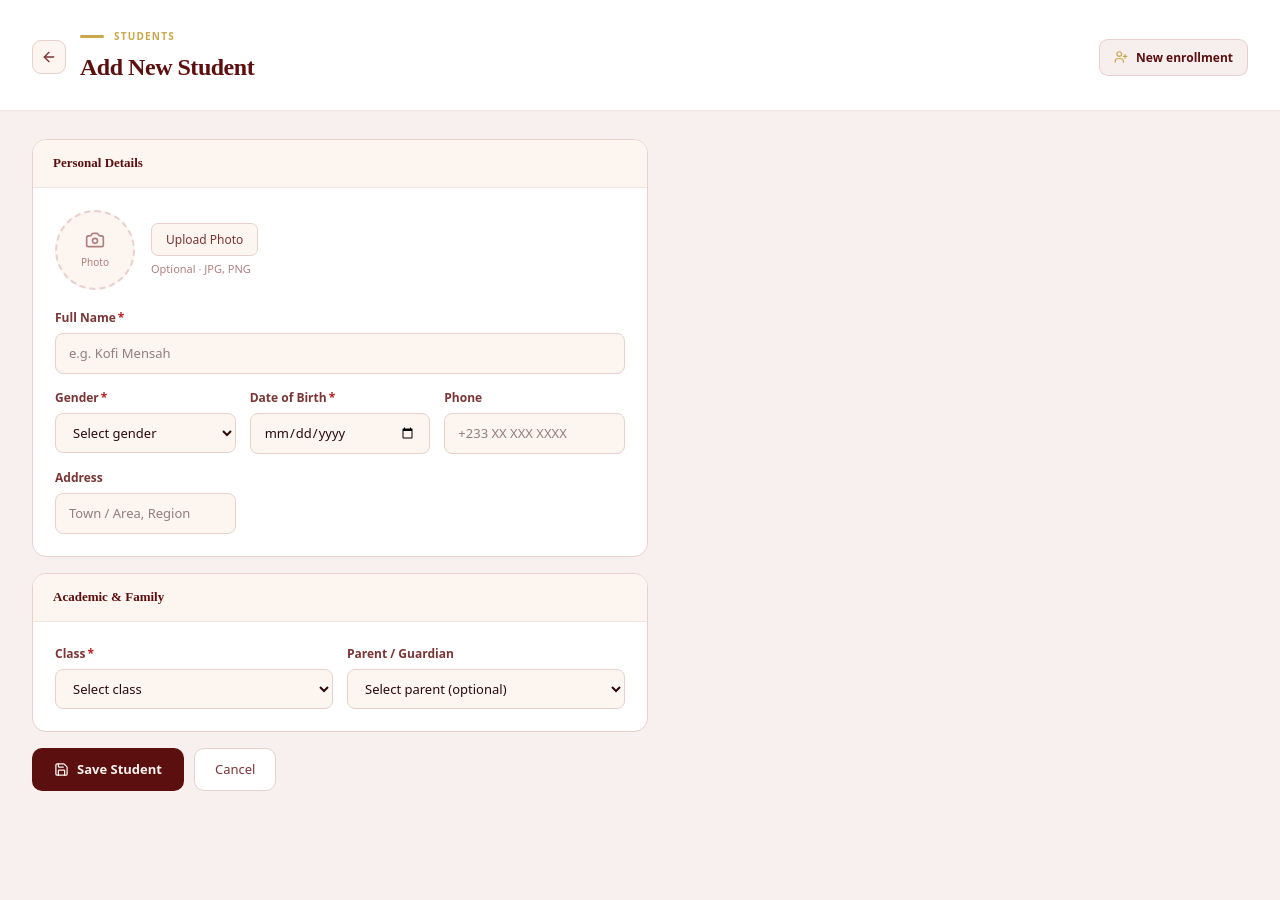
Scenario: Add New Student page › shows an error message when form submission fails
The width and height of the screenshot is (1280, 900).
Fill required fields
Type "Test Student" into the field with placeholder "e.g. Kofi Mensah" at (340, 354), box [55,333,625,374]
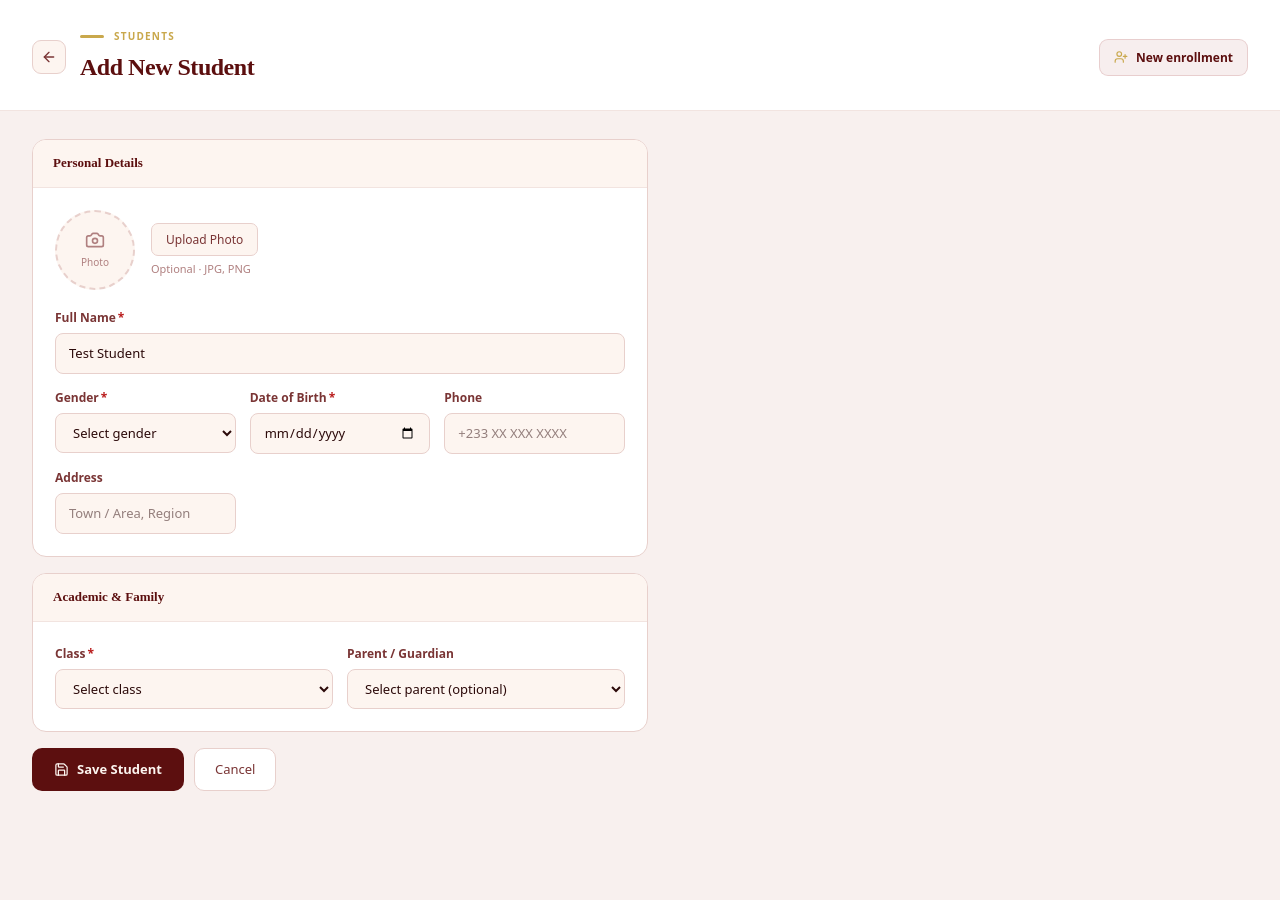
Select "Male" in the dropdown showing "Select gender" below "Gender" at (145, 433), box [55,413,236,453]
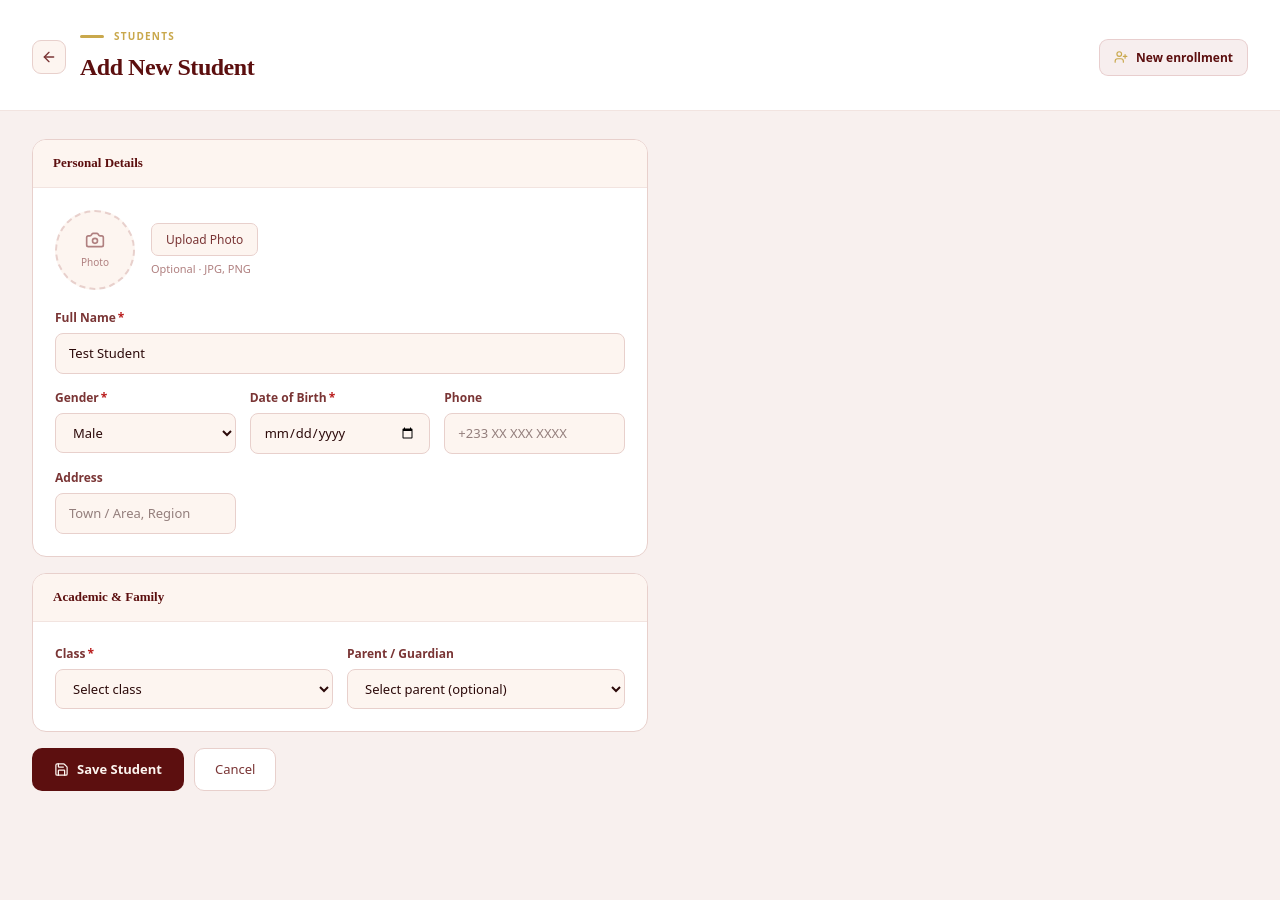
Type "2012-01-01" into the date field at (340, 434), box [250,413,430,454]
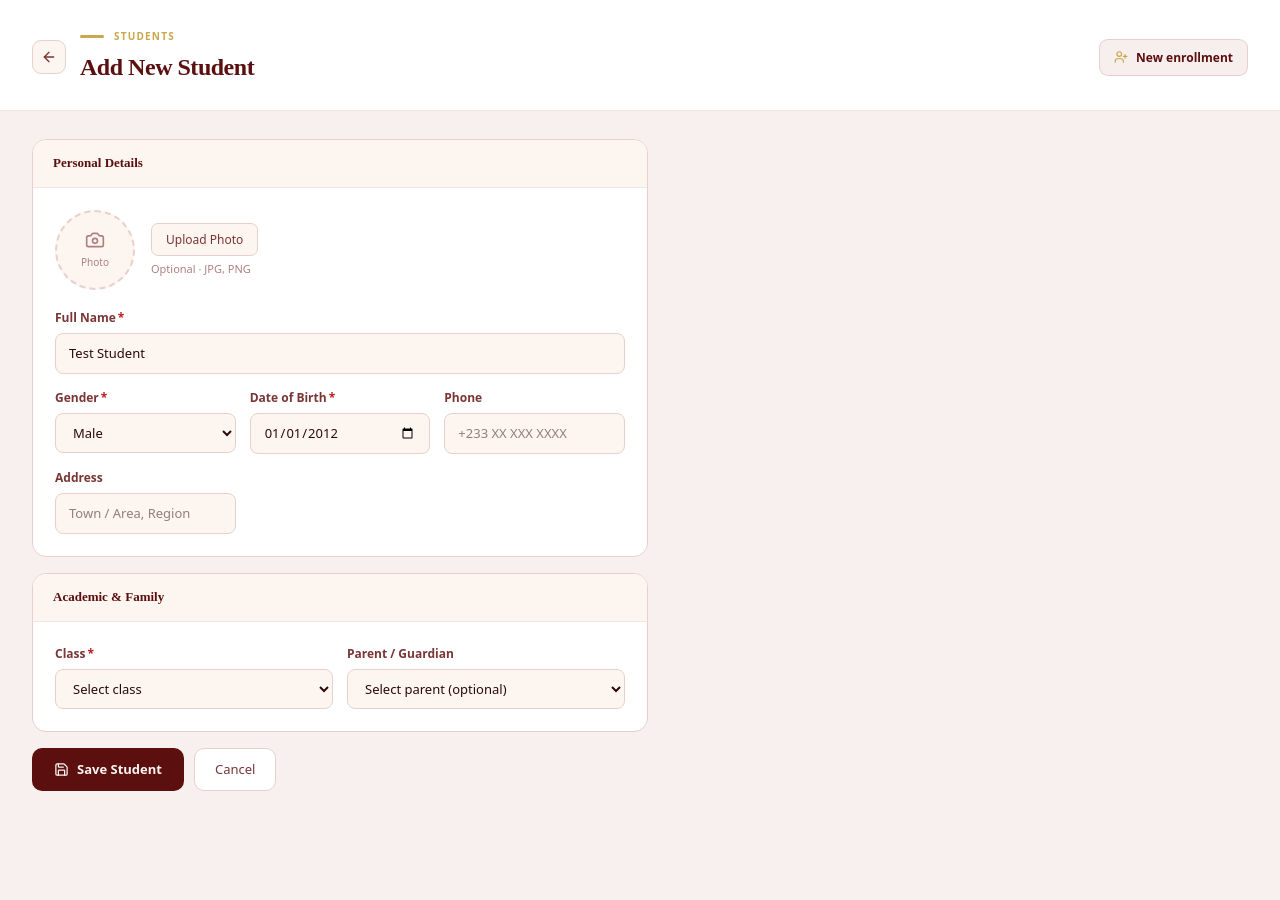
Select "JHS 1" in the dropdown showing "Select class" below "Class" at (194, 689), box [55,669,333,709]
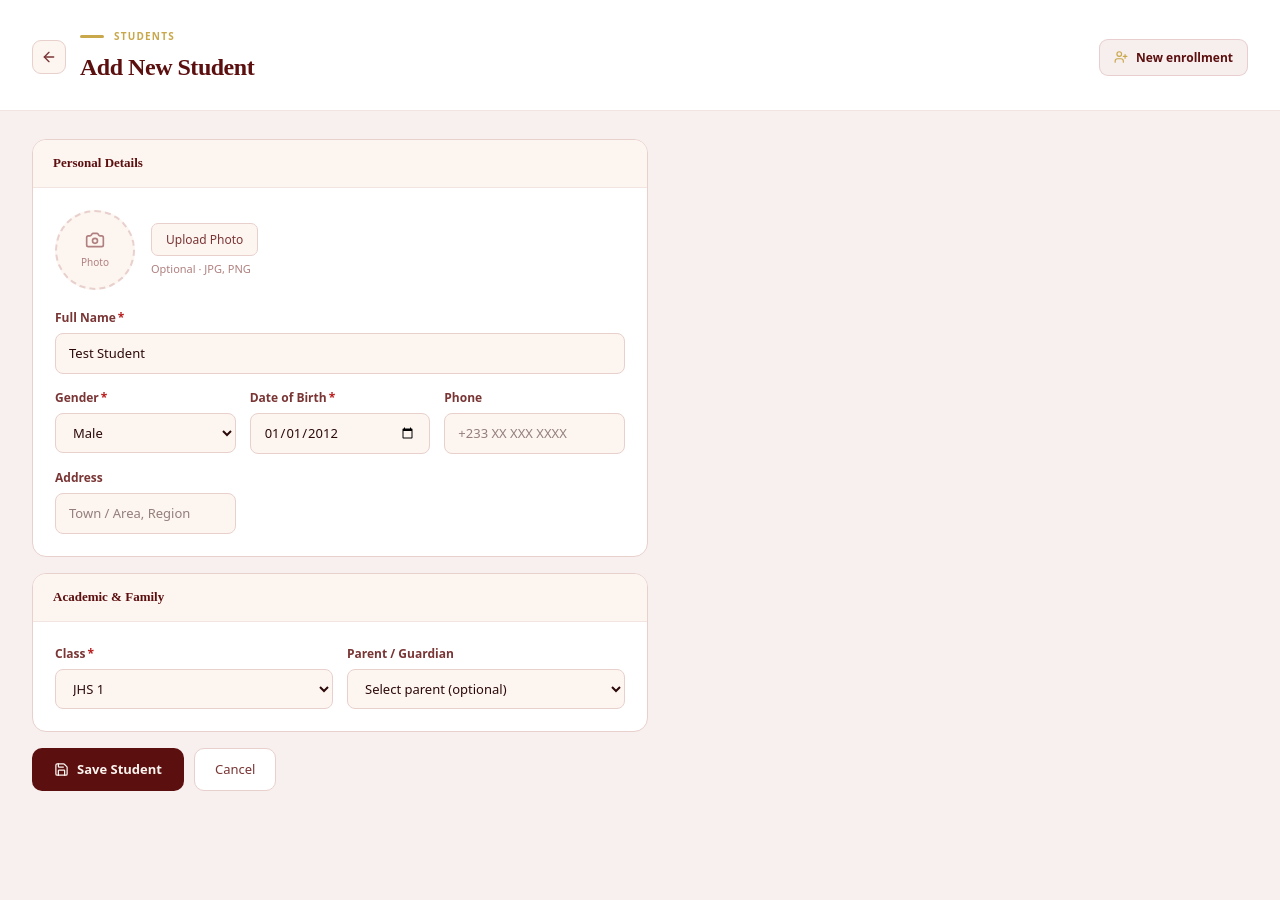
Click the button "Save Student" at (108, 770), box [32,748,184,791]
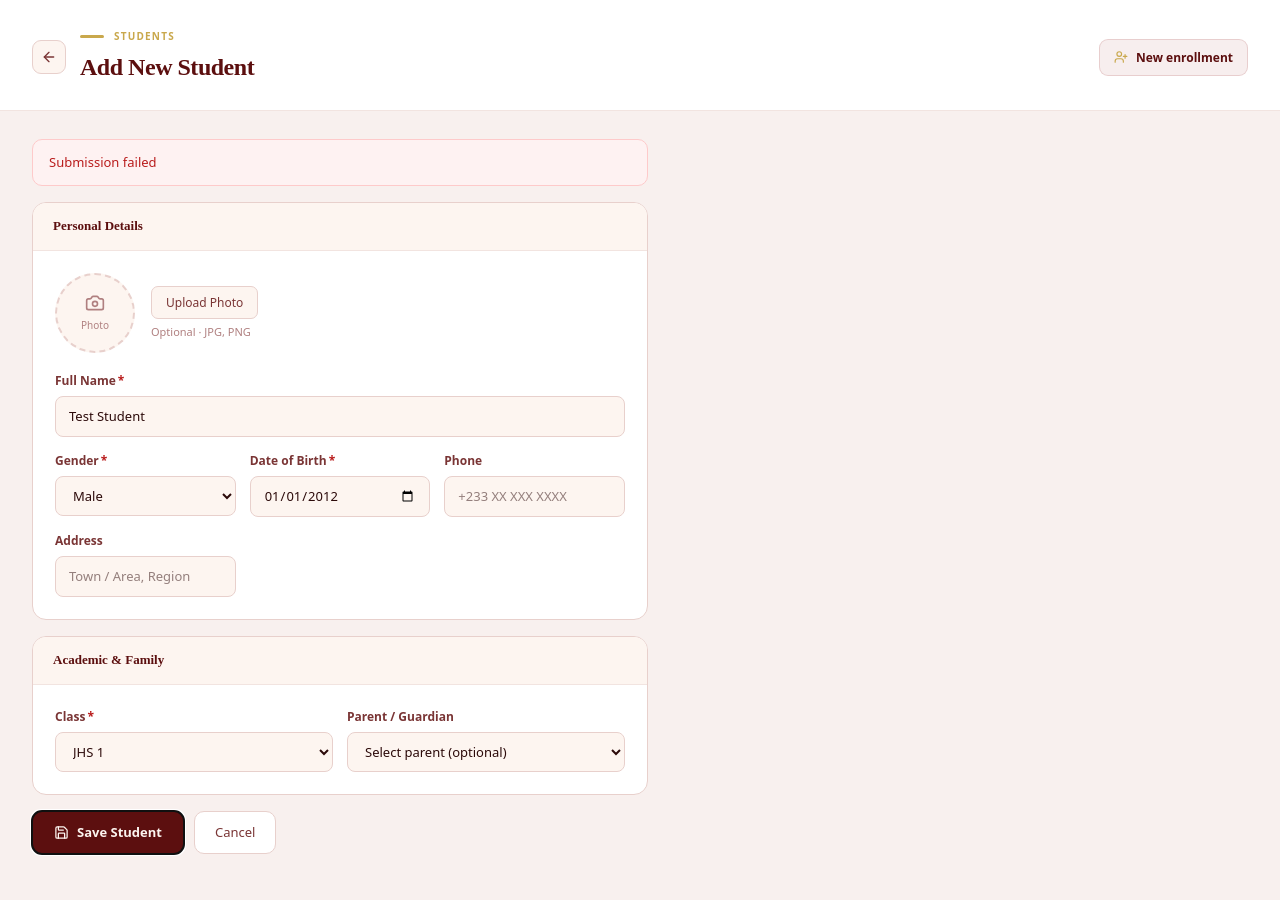
expect the text "Submission failed" is shown: met, box [32,139,648,186]
